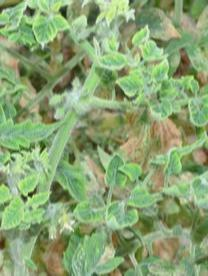Tomato leaf yellow virus: (100, 76, 156, 101), (89, 48, 134, 72), (35, 10, 57, 54), (4, 174, 44, 198), (0, 199, 28, 233)
